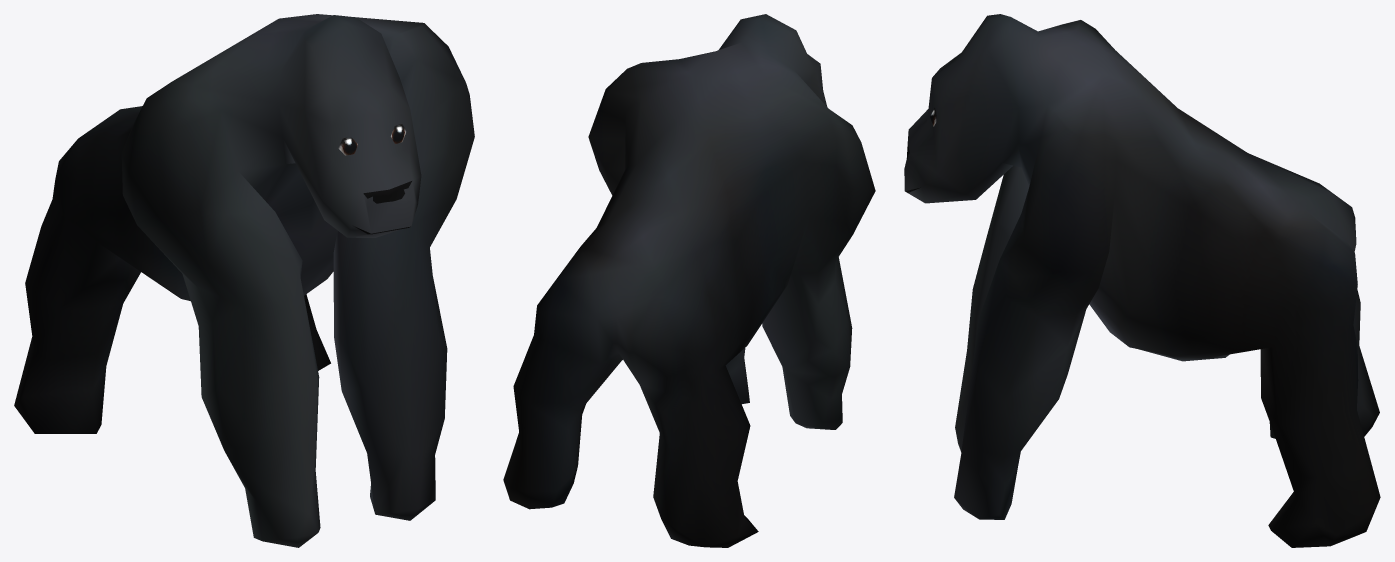
3 views of the same model, side by side, from view 1: azimuth 30°, elevation 25°; view 2: azimuth 150°, elevation 25°; view 3: azimuth 270°, elevation 25° (orthographic). The views are drawn at different scales.
Visible parts, largest first — view 1: Gorilla; view 2: Gorilla; view 3: Gorilla.
Part boxes in pixels (box(x1,y1,x2,y2)): Gorilla: box(14, 14, 474, 547); Gorilla: box(503, 14, 875, 547); Gorilla: box(904, 14, 1380, 547).
Size of what is drawn, in the model's own units: 1.29 by 1.85 by 1.7.
1 material, 1 textured.
